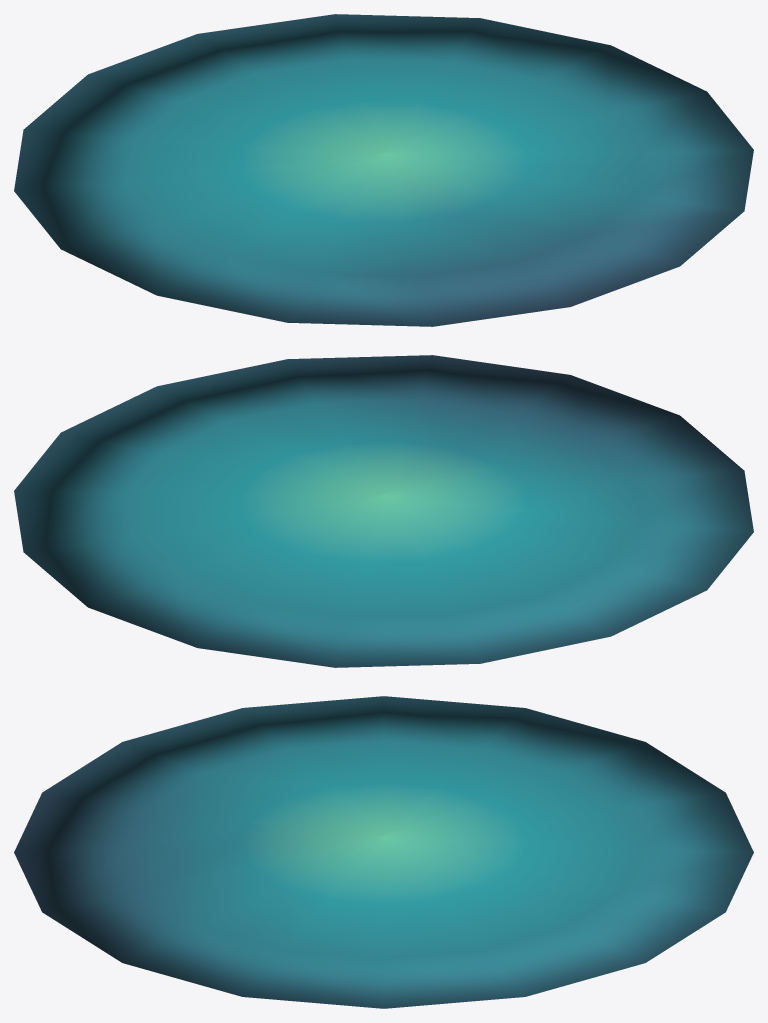
The model's file is space-galaxies-galaxy_v5.glb.
3 renders of one model, top to bottom at view 1: azimuth 30°, elevation 25°; view 2: azimuth 150°, elevation 25°; view 3: azimuth 270°, elevation 25°, orthographic.
Parts seen in each view (by area): view 1: Galaxy_v5; view 2: Galaxy_v5; view 3: Galaxy_v5.
Part boxes in pixels (<box>): Galaxy_v5: <box>14,14,753,326</box>; Galaxy_v5: <box>14,355,753,667</box>; Galaxy_v5: <box>14,696,753,1008</box>.
Size of the model in its own units: 0.5 by 0.0229 by 0.5.
